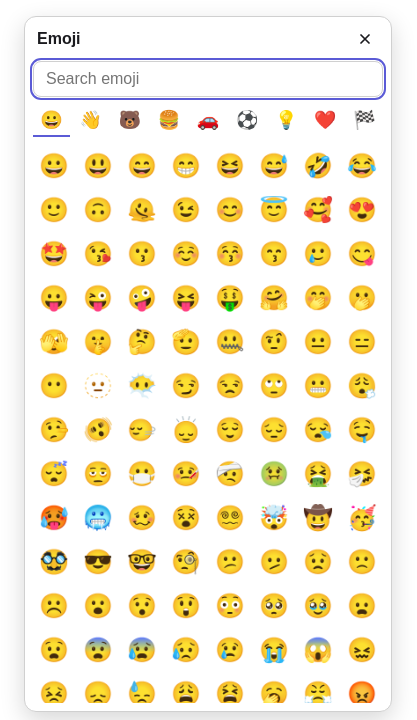
EmojiPanel › shows an empty state naming the search term
Type "zzzzqqqq" into the search field labelled "Search emoji" at (208, 79), box [33,61,383,97]
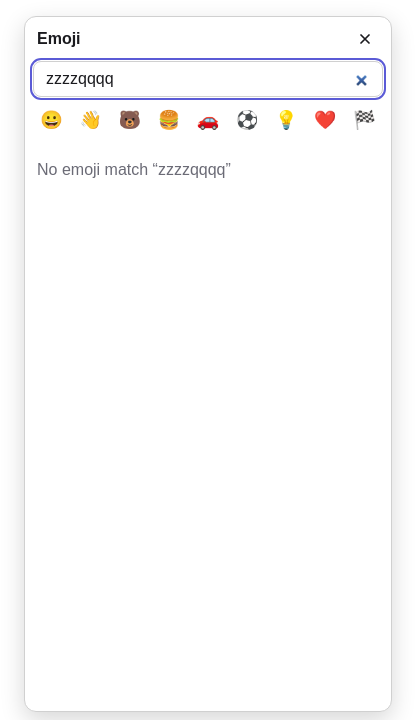
Now the message shows "zzzzqqqq", box [158,161,226,178]
